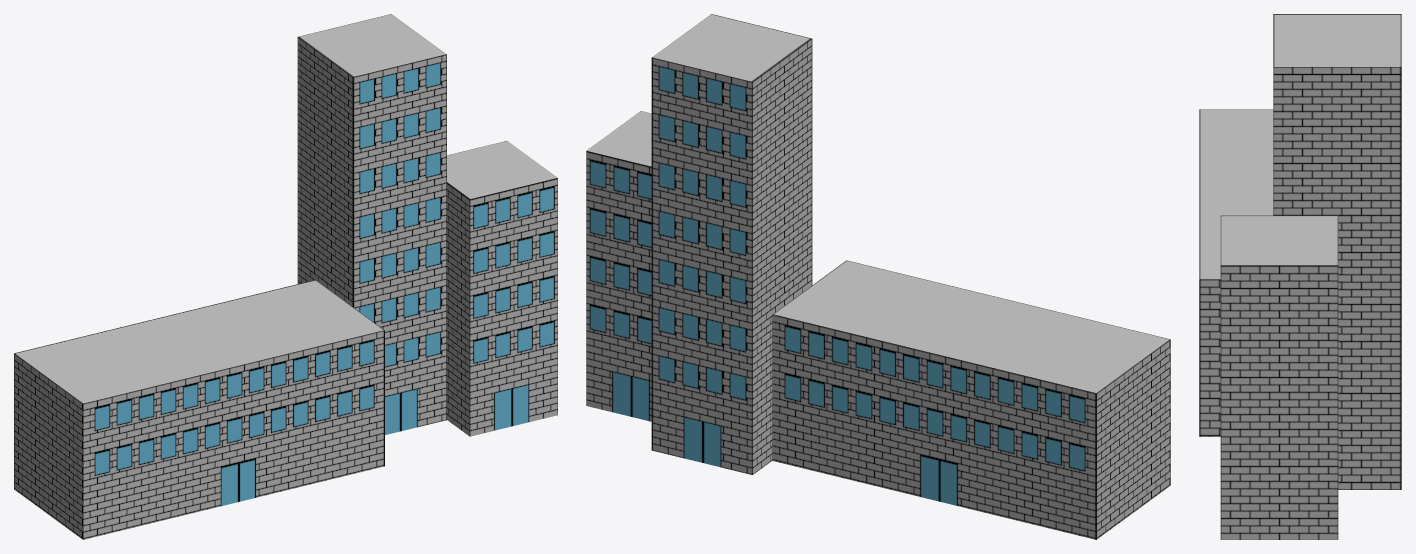
The model's file is corporate_corp.fbx.
3 views of the same model, side by side, from view 1: azimuth 30°, elevation 25°; view 2: azimuth 150°, elevation 25°; view 3: azimuth 270°, elevation 25° (orthographic). The views are drawn at different scales.
Visible parts, largest first — view 1: CorporateCorp; view 2: CorporateCorp; view 3: CorporateCorp.
Boxes of the visible parts, <box> form: CorporateCorp: <box>14,14,557,539</box>; CorporateCorp: <box>586,14,1170,539</box>; CorporateCorp: <box>1199,14,1401,539</box>.
Size of the model in its own units: 12815 by 9249 by 4004.
Materials: 1 (1 with a texture image).
